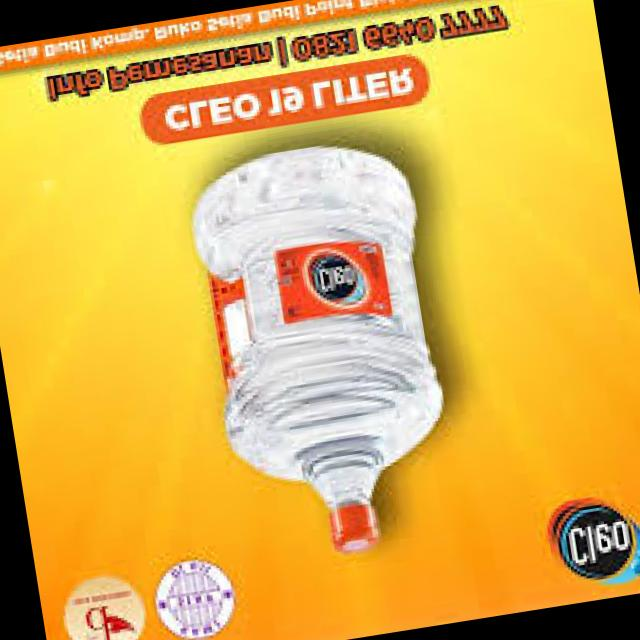Galon: (179, 132, 468, 572)
